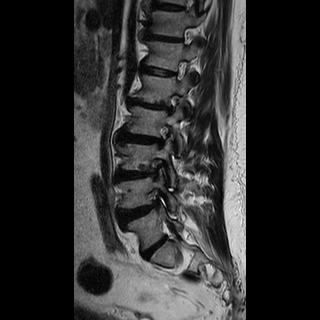RFS1: (158, 89, 186, 121), (150, 119, 176, 152)
